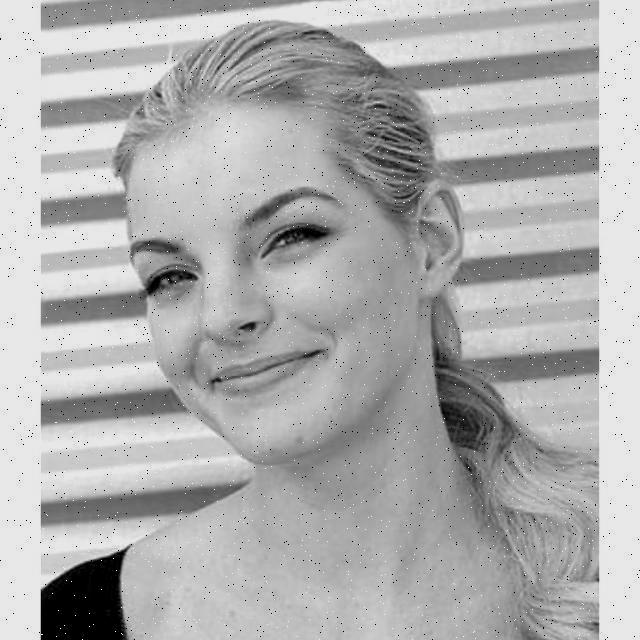real: (124, 76, 394, 444)
